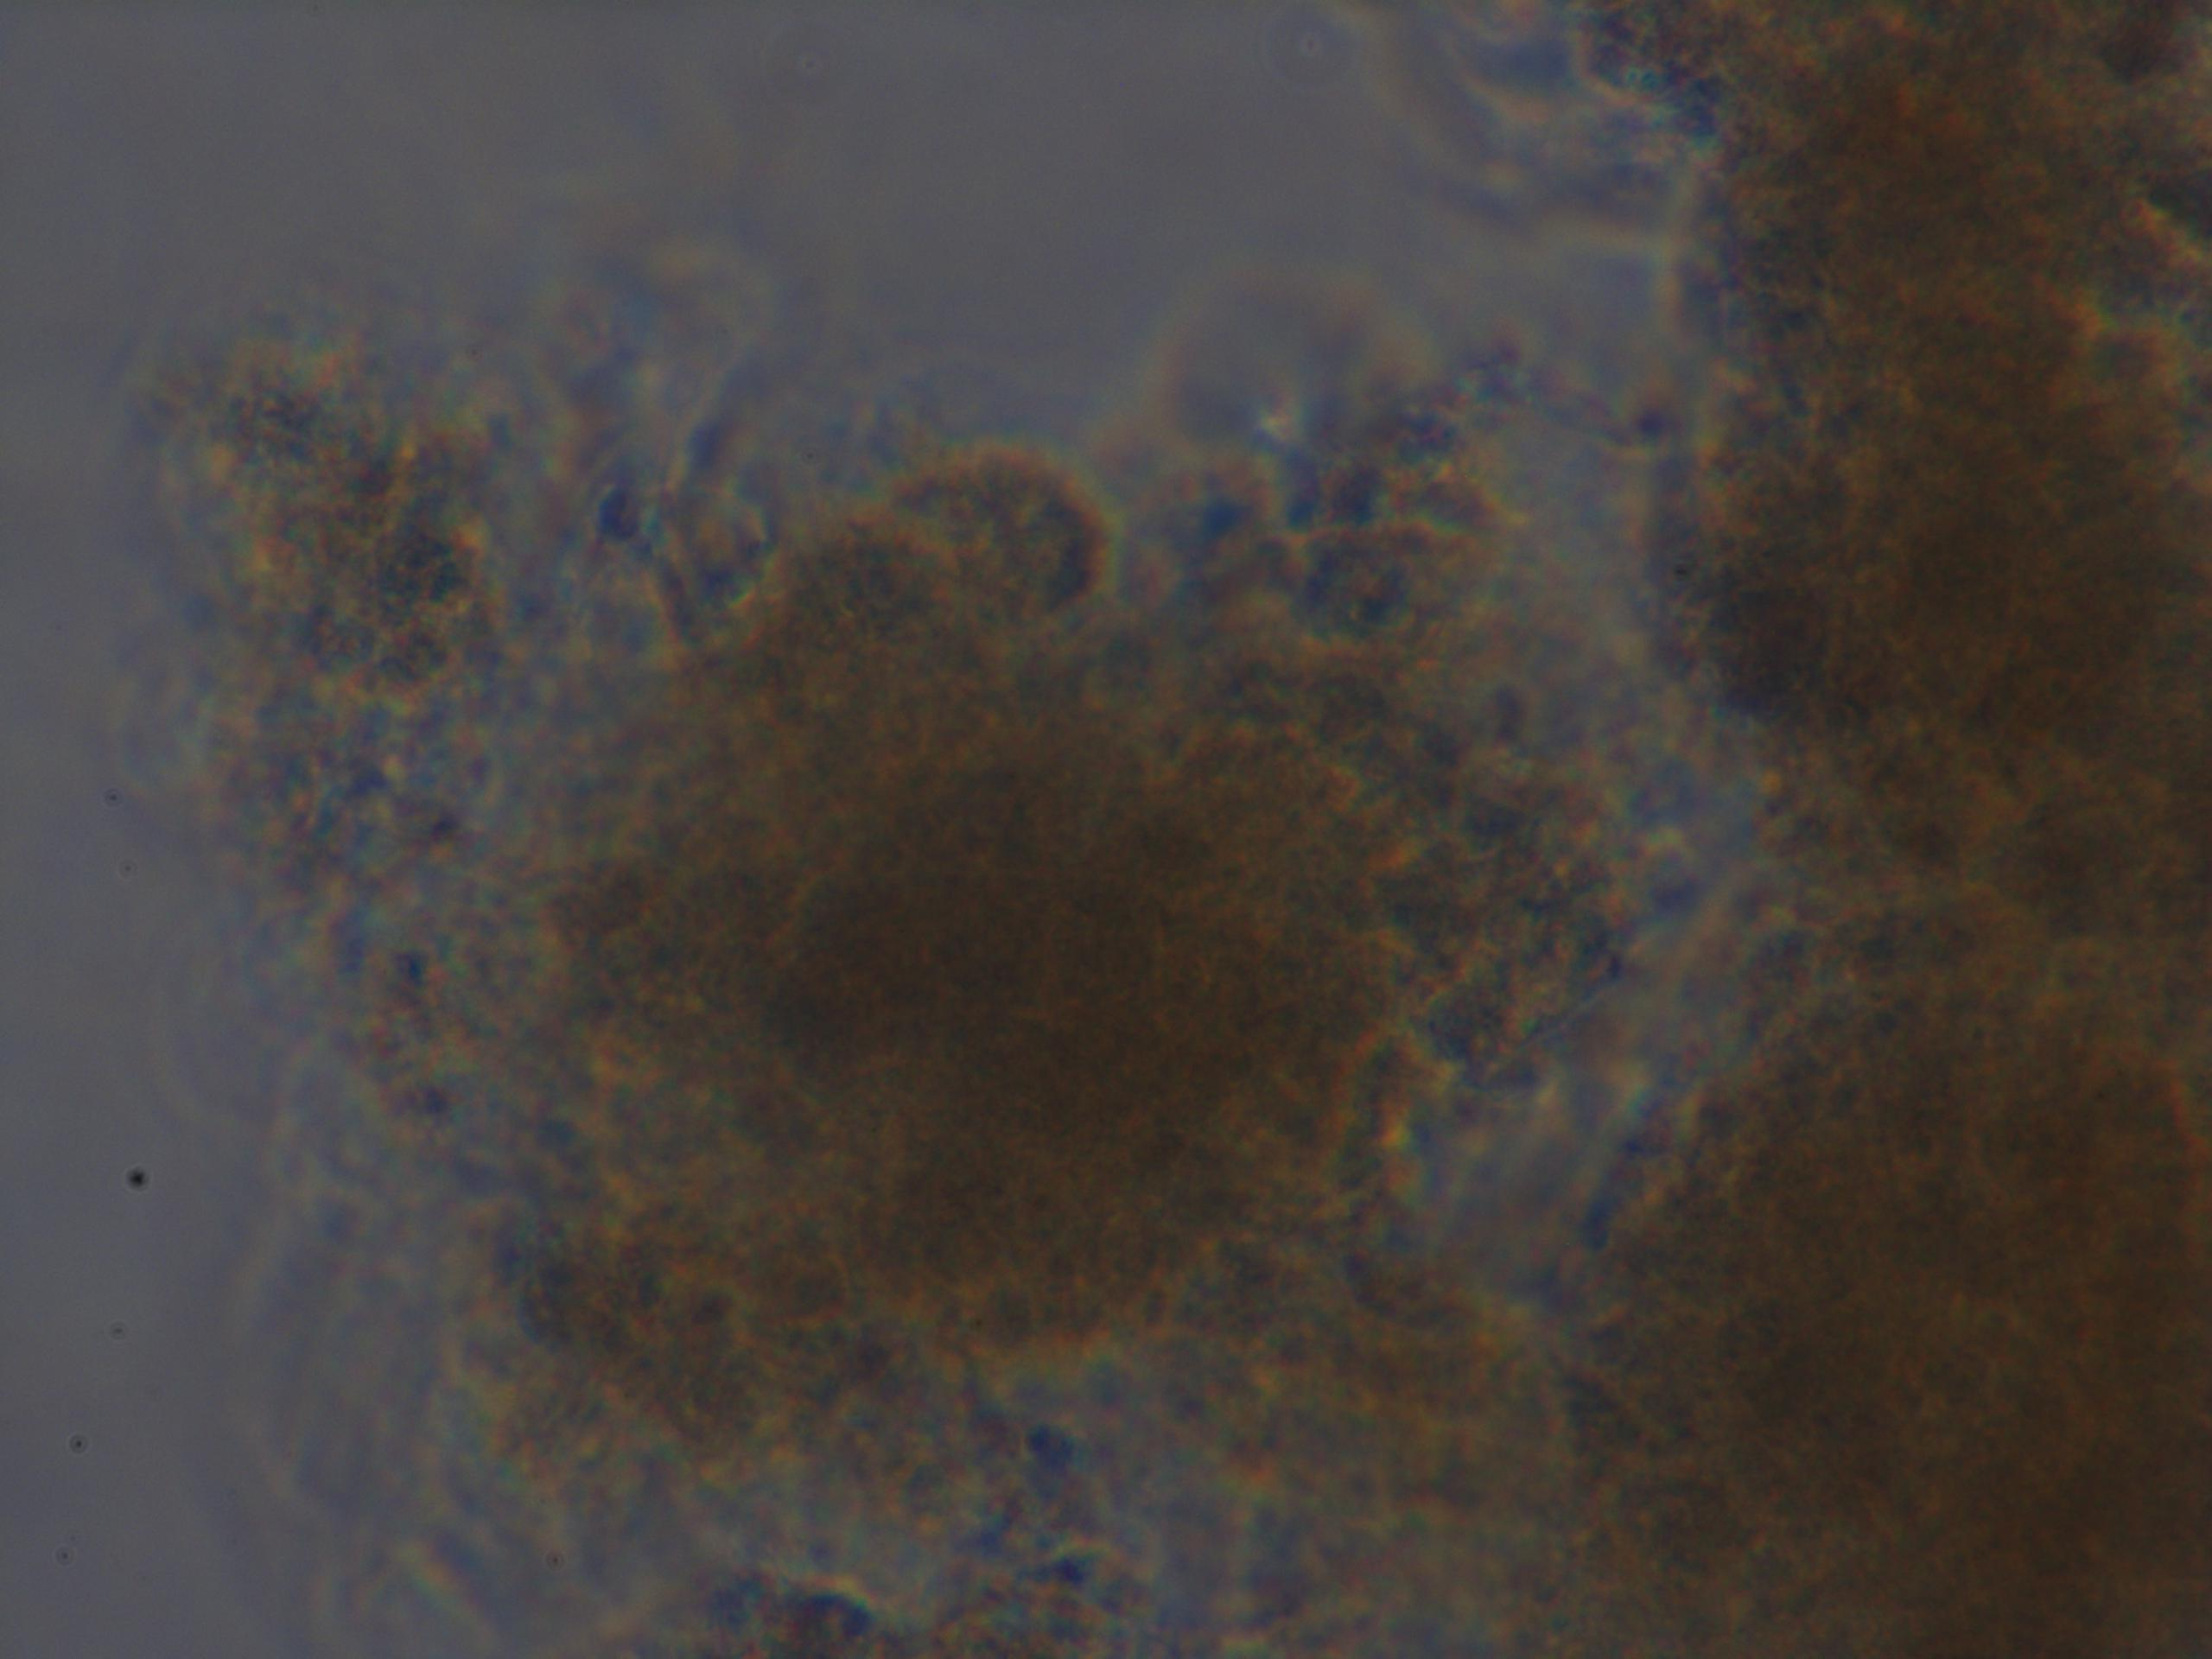spherical_floc: (510, 439, 1548, 1499)
